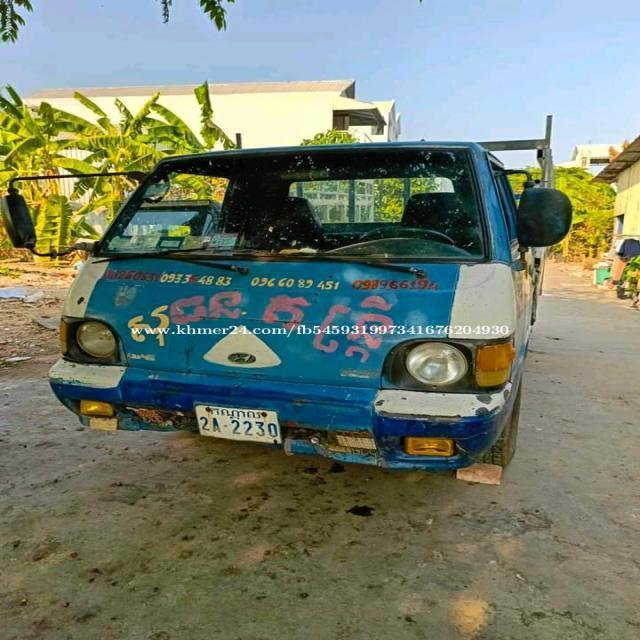Kandal: (207, 407, 262, 420)
